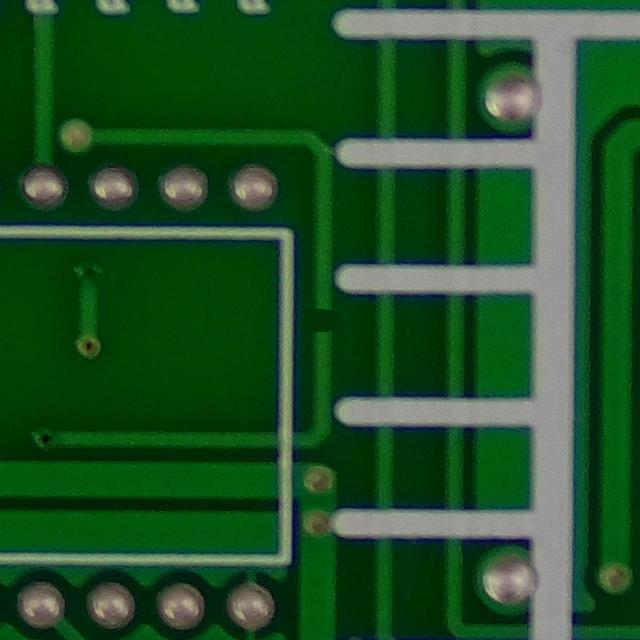open_circuit: (299, 296, 341, 344)
